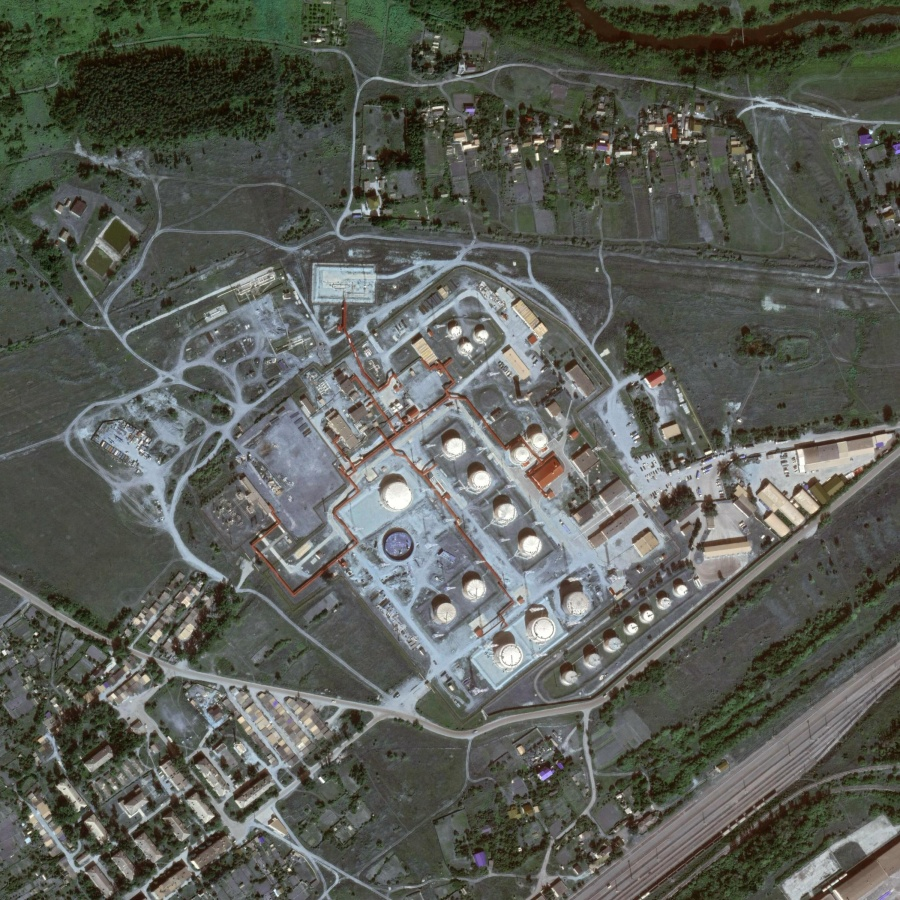PowerPlant: (381, 396, 694, 687)
